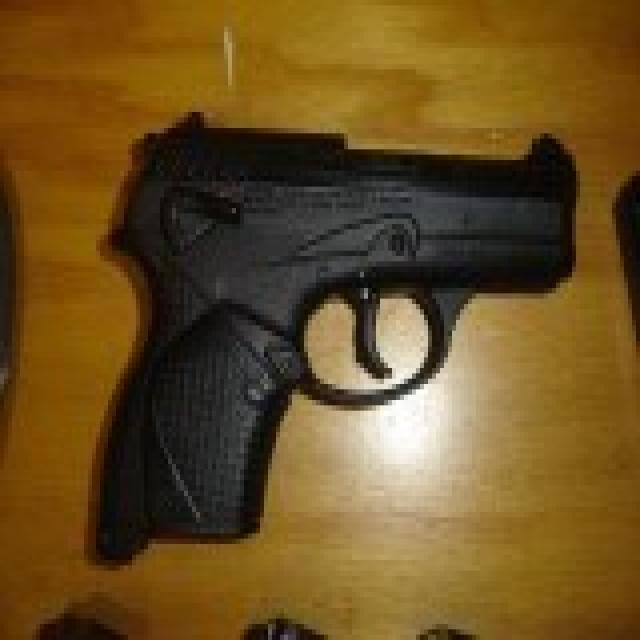Gun: (72, 67, 591, 582)
